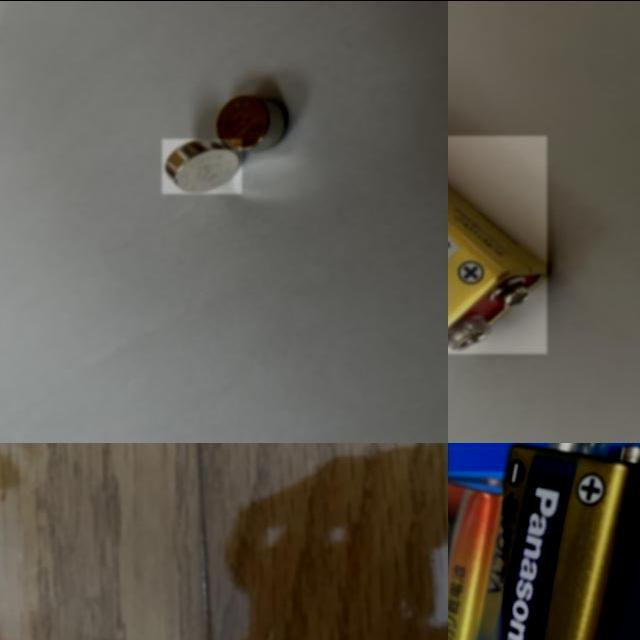9V: (467, 442, 640, 640), (448, 135, 547, 353), (448, 471, 503, 640)
